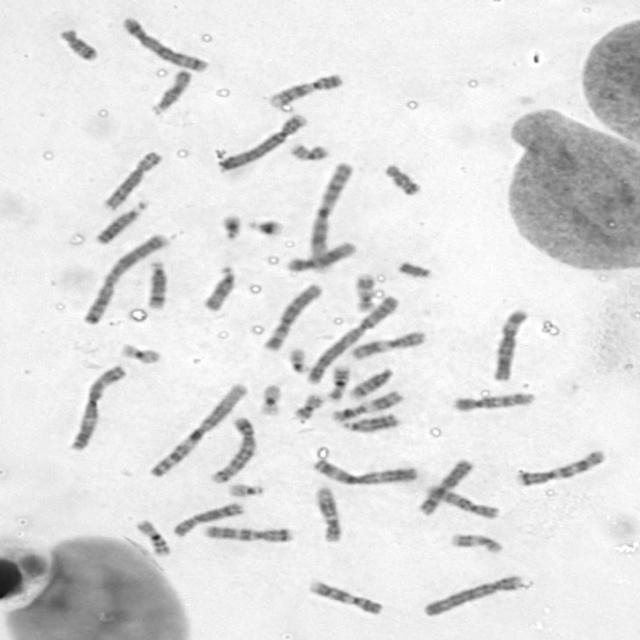A1: (145, 378, 251, 479), (303, 158, 357, 274)
A2: (302, 292, 402, 386), (78, 229, 171, 326)
A3: (64, 360, 130, 452), (308, 455, 419, 486)
B4: (213, 109, 310, 174), (419, 571, 528, 618)
B5: (117, 12, 212, 73), (206, 412, 260, 484)
C10: (420, 480, 502, 520), (448, 388, 538, 413)
C11: (327, 386, 406, 423), (348, 326, 430, 361)
C12: (281, 238, 358, 273), (312, 482, 346, 544)
C6: (258, 279, 326, 352), (488, 305, 532, 382)
C7: (510, 445, 608, 487), (198, 520, 296, 544)
C8: (99, 146, 165, 212), (168, 498, 248, 538)
C9: (304, 576, 385, 616), (266, 69, 346, 109)
D13: (90, 196, 150, 245), (338, 410, 402, 433)
D14: (346, 363, 396, 401), (143, 256, 170, 311)
D15: (147, 66, 193, 116), (198, 262, 238, 312)
E16: (132, 516, 174, 558), (322, 362, 352, 402)
E17: (446, 528, 506, 554), (350, 269, 378, 313)
E18: (55, 24, 101, 62), (380, 159, 425, 197)
F19: (115, 339, 164, 365), (255, 380, 285, 417)
F20: (288, 390, 326, 422), (286, 139, 332, 161)
G21: (244, 215, 286, 238), (217, 210, 244, 242)
G22: (284, 344, 313, 374), (223, 479, 267, 498)
X: (414, 455, 476, 517)
Y: (394, 257, 434, 279)
